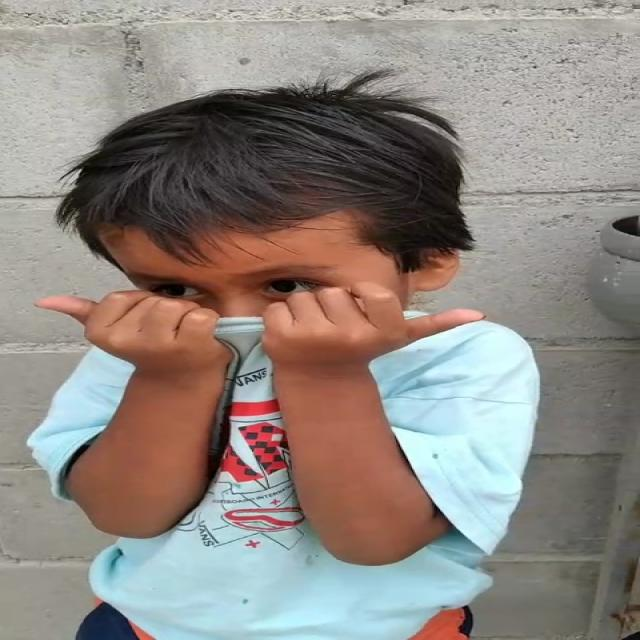8_ropa_rostro: (65, 290, 507, 428)
